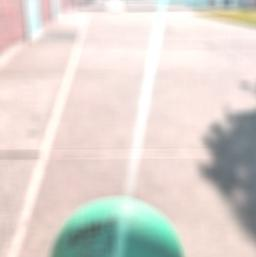algae: (44, 192, 186, 257)
